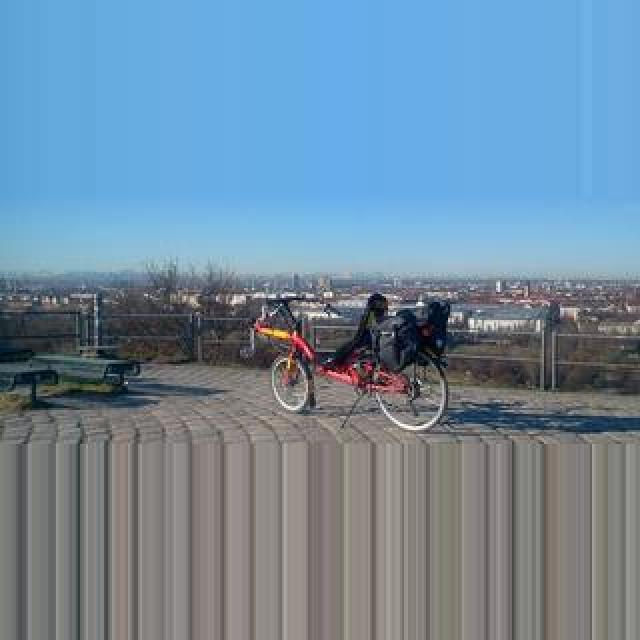Person: (259, 292, 455, 436)
